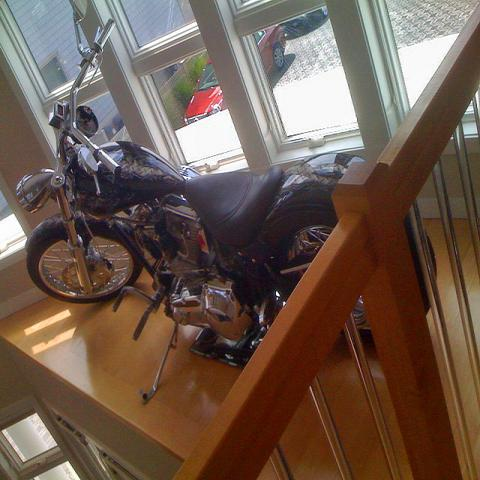car: (184, 25, 286, 125), (282, 5, 328, 41)
motorcycle: (18, 1, 378, 395)
